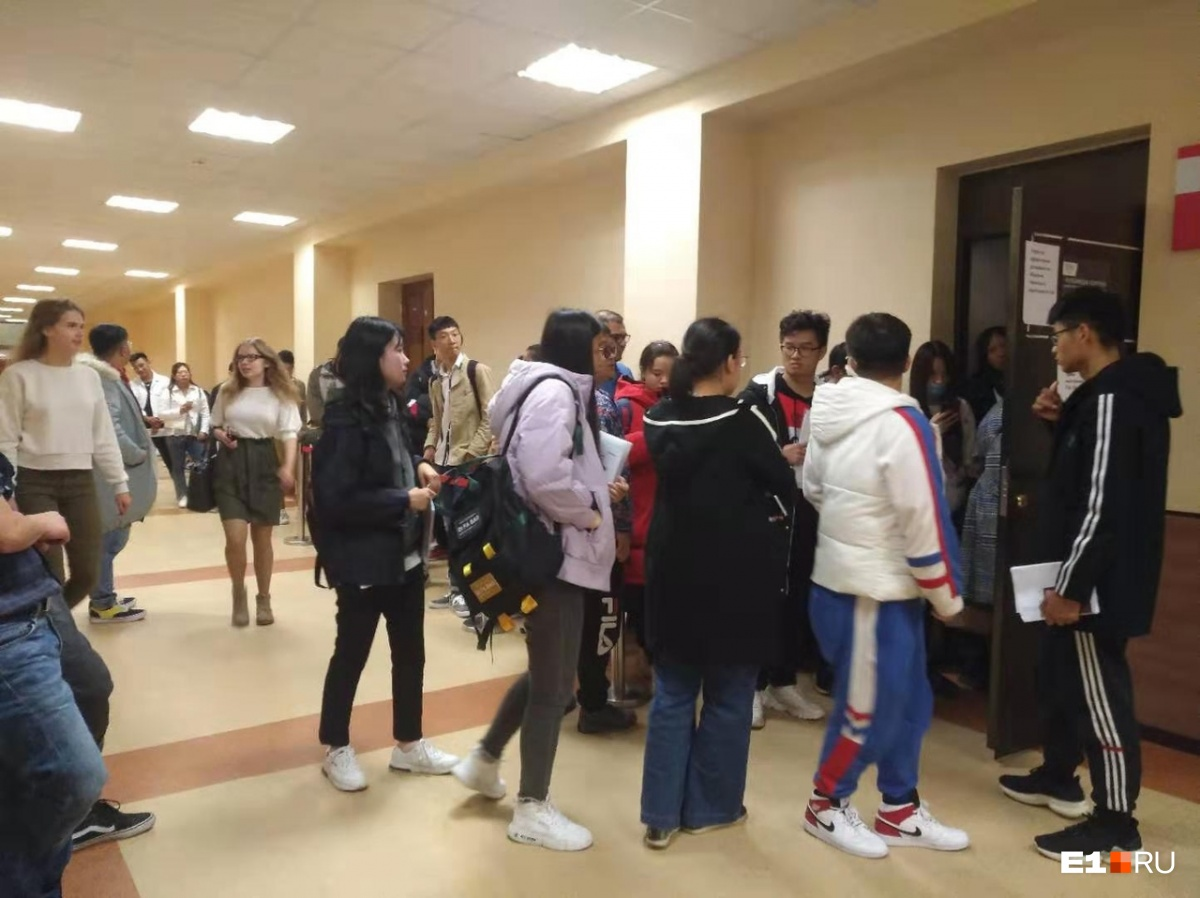students: (997, 290, 1179, 864), (448, 305, 620, 852), (806, 313, 976, 857), (637, 315, 792, 851), (314, 315, 463, 792), (754, 311, 841, 717), (608, 341, 702, 713), (8, 300, 107, 643), (210, 338, 300, 625), (88, 324, 160, 624), (909, 337, 982, 542), (417, 314, 498, 488), (165, 361, 209, 509), (129, 352, 170, 499), (978, 327, 1019, 392), (593, 306, 630, 357), (279, 349, 296, 376)
